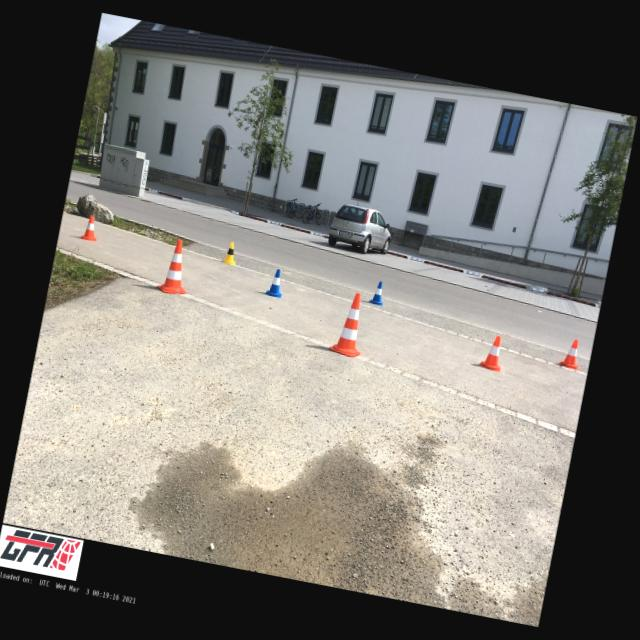blue_cone: (266, 268, 286, 298), (369, 280, 387, 306)
large_orange_cone: (328, 291, 371, 358), (157, 238, 196, 296)
orange_cone: (479, 334, 506, 372), (558, 338, 584, 370), (82, 214, 102, 241)
yellow_cone: (222, 240, 238, 264)
